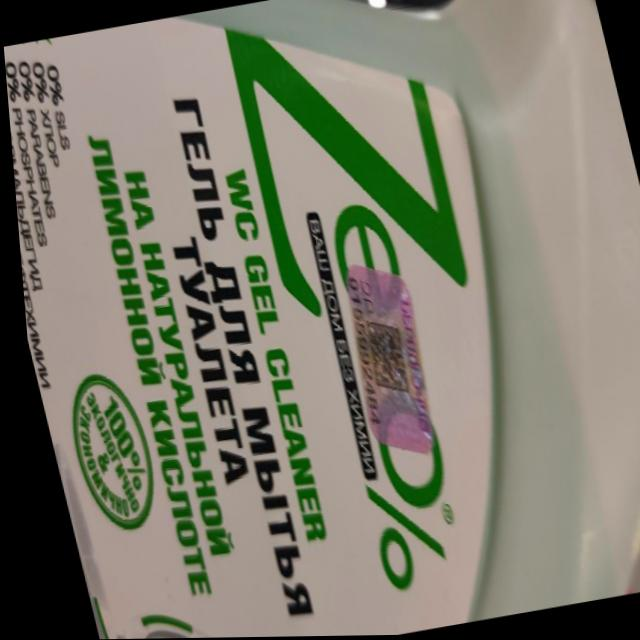datamatrix: (356, 318, 410, 401)
